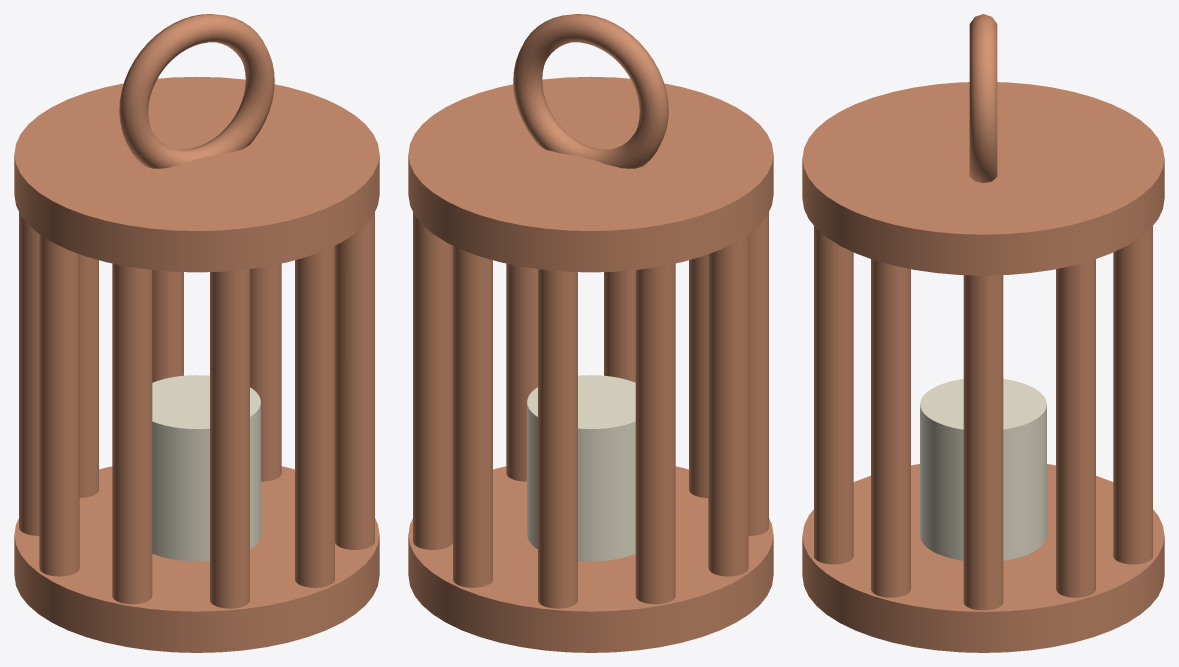
File: ceramics-pottery-studio-candle-lantern-a6398f60__29524.glb
The picture shows the model from 3 angles, left to right: view 1: azimuth 30°, elevation 25°; view 2: azimuth 150°, elevation 25°; view 3: azimuth 270°, elevation 25°; orthographic projection.
Visible parts, largest first — view 1: candle-lantern; view 2: candle-lantern; view 3: candle-lantern.
Part boxes in pixels (x1,y1,x2,y2): candle-lantern: [14, 14, 379, 652]; candle-lantern: [408, 14, 773, 652]; candle-lantern: [802, 14, 1164, 652].
Bounding box in the file's own units: 0.2 × 0.338 × 0.2.
